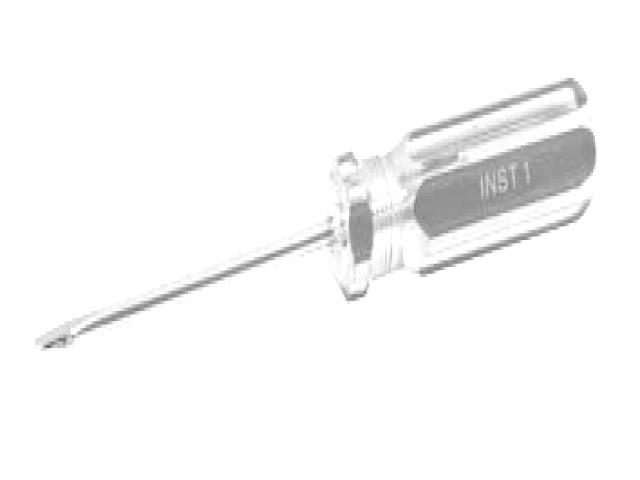Screwdriver: (34, 77, 594, 349)
